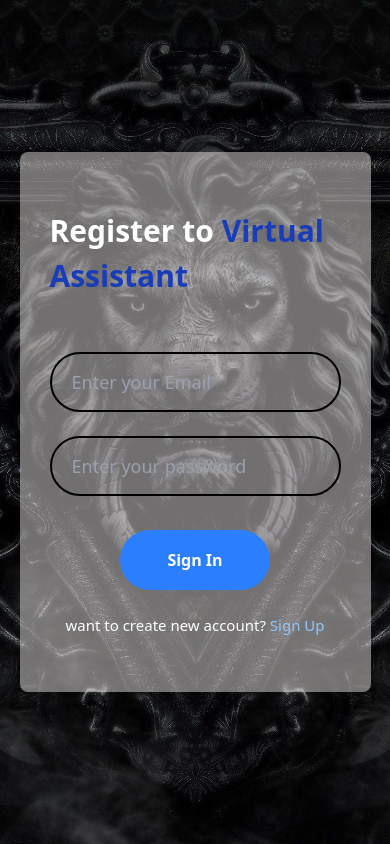
Test: SignIn Component › shows generic error when API fails without response
Type "test@example.com" into the field with placeholder "Enter your Email" at (195, 382), box 50,352 -> 340,412
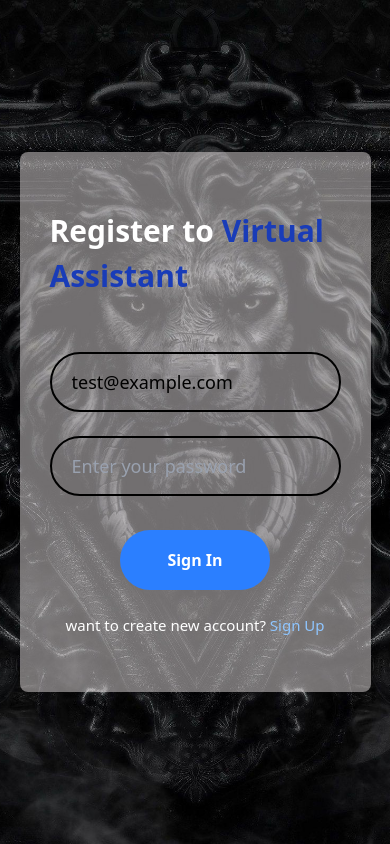
Type "password123" into the password field with placeholder "Enter your password" at (195, 466), box 52,438 -> 338,494
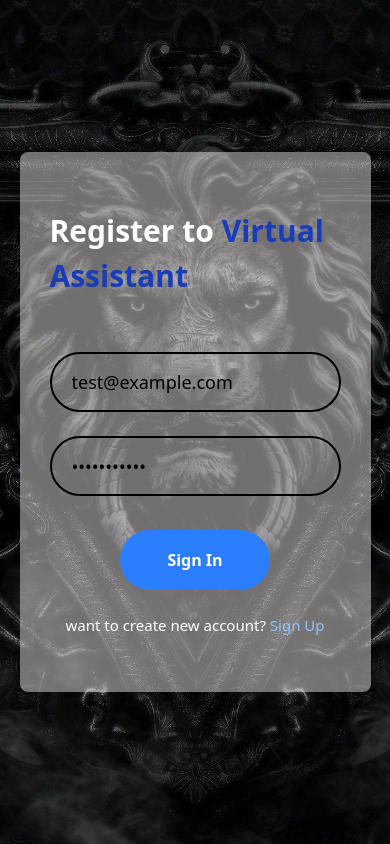
Click the button "Sign In" at (195, 560), box 120,530 -> 270,590
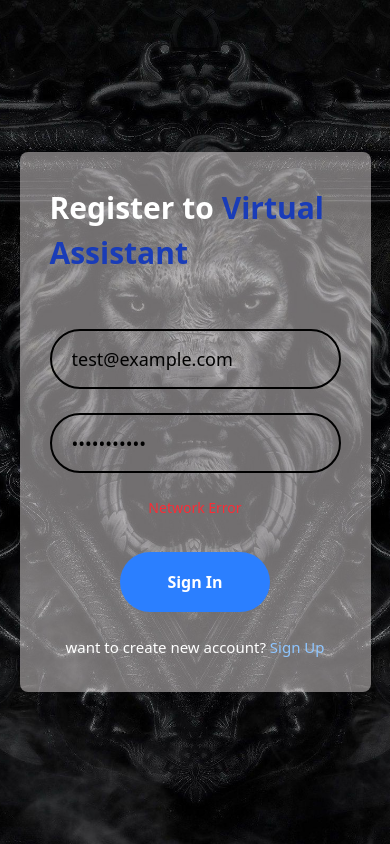
Now the text "Network Error" is shown, box 148,497 -> 242,518
